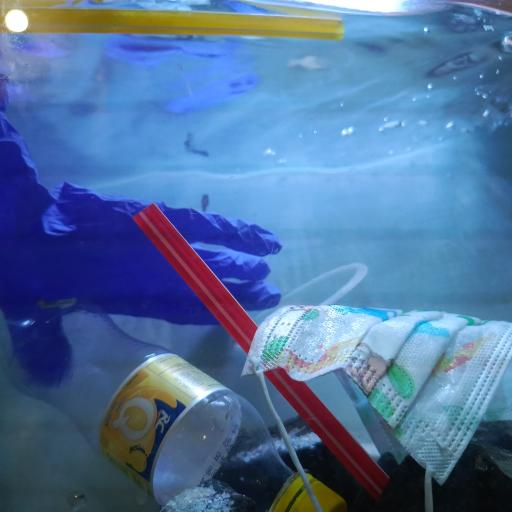bottle_cap: (294, 476, 346, 512)
glove: (0, 103, 285, 382)
mask: (240, 303, 512, 481)
plastic_bottle: (8, 298, 348, 512)
plastic_cup: (255, 264, 386, 311)
plastic_straw: (134, 202, 395, 496), (0, 6, 345, 44)
